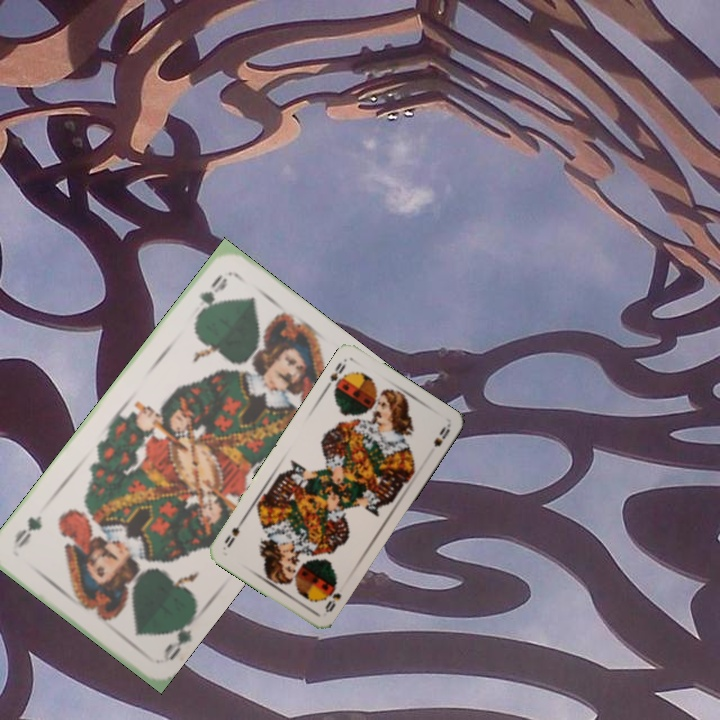GO: (159, 612, 198, 665), (191, 269, 230, 322)
SO: (321, 355, 349, 395), (321, 578, 344, 615)
